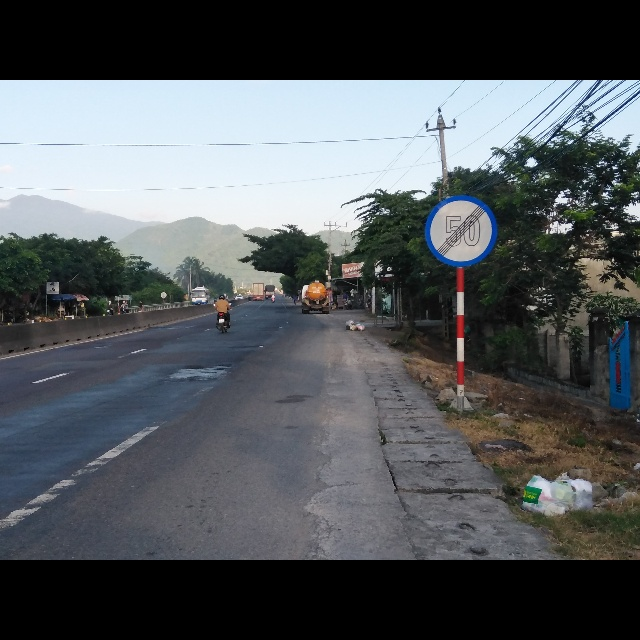Hết hạn chế tốc độ tối đa 50km/h: (423, 195, 496, 267)
